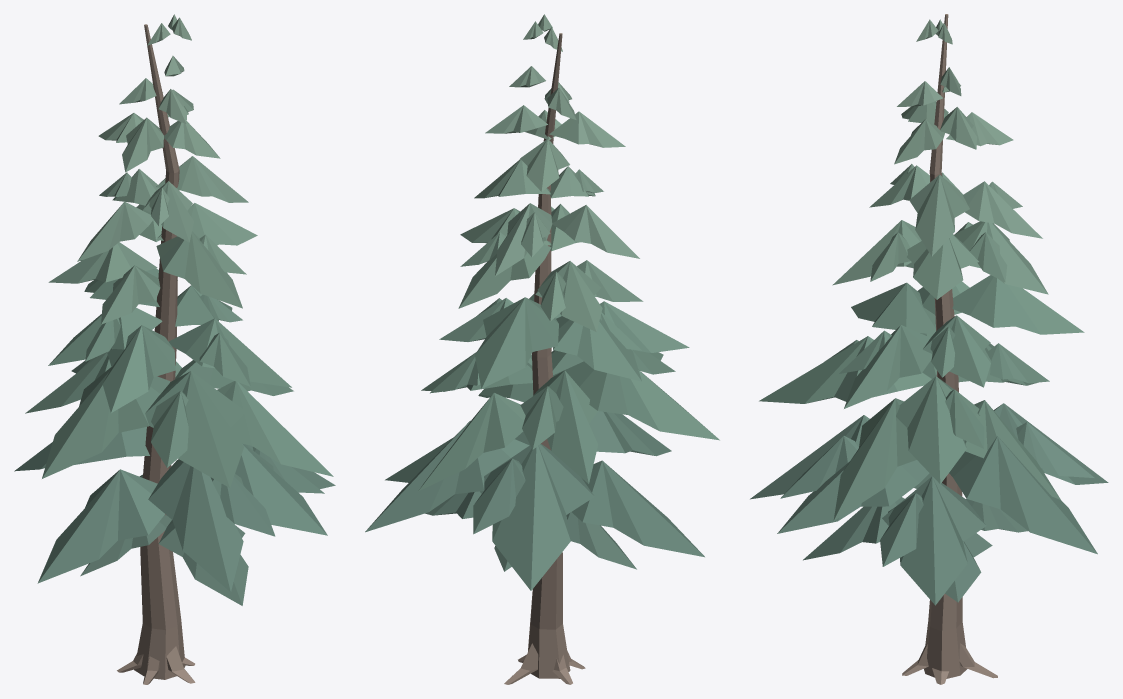
The model's file is moonlake_pine.glb.
3 views of the same model, side by side, from view 1: azimuth 30°, elevation 25°; view 2: azimuth 150°, elevation 25°; view 3: azimuth 270°, elevation 25° (orthographic).
Visible parts, largest first — view 1: Moonlake Pine; view 2: Moonlake Pine; view 3: Moonlake Pine.
Boxes of the visible parts, box(x1,y1,x2,y2) form: Moonlake Pine: box(14, 14, 335, 684); Moonlake Pine: box(365, 14, 719, 684); Moonlake Pine: box(750, 14, 1108, 684).
Bounding box in the file's own units: 1.56 × 3.08 × 1.53.
